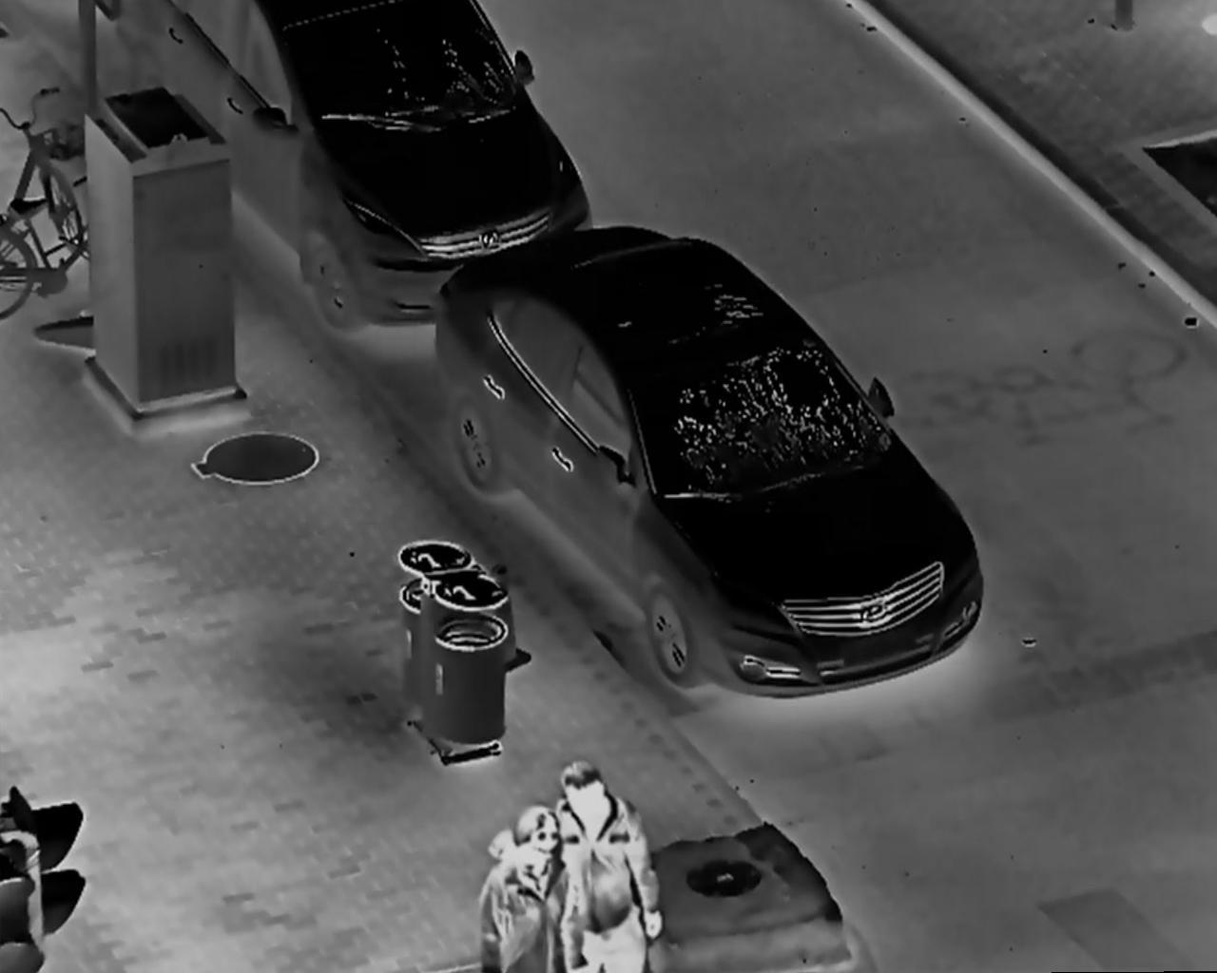person: (549, 754, 666, 973), (474, 802, 581, 973)
